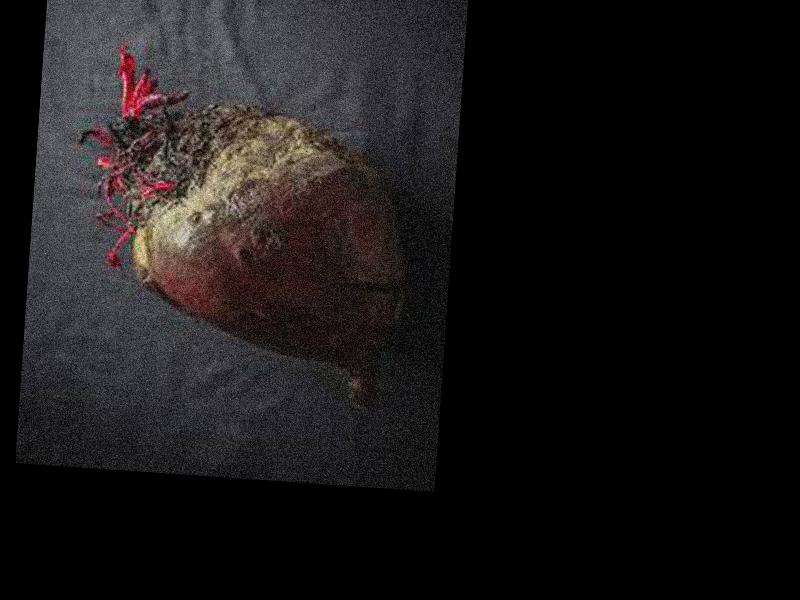Beet: (61, 43, 417, 413)
